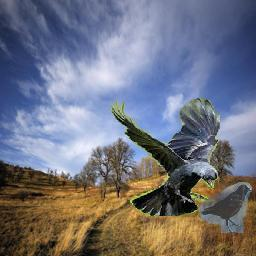Crow: (110, 98, 221, 217), (200, 183, 253, 234)
